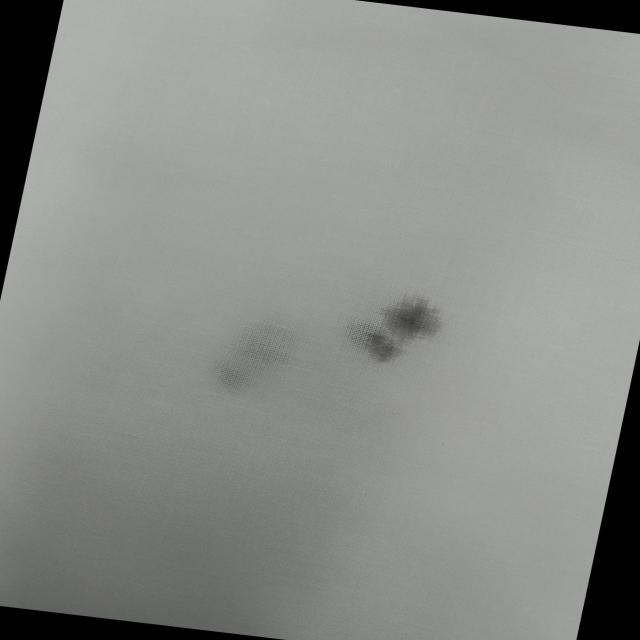stain: (206, 310, 312, 403), (343, 288, 455, 369)
